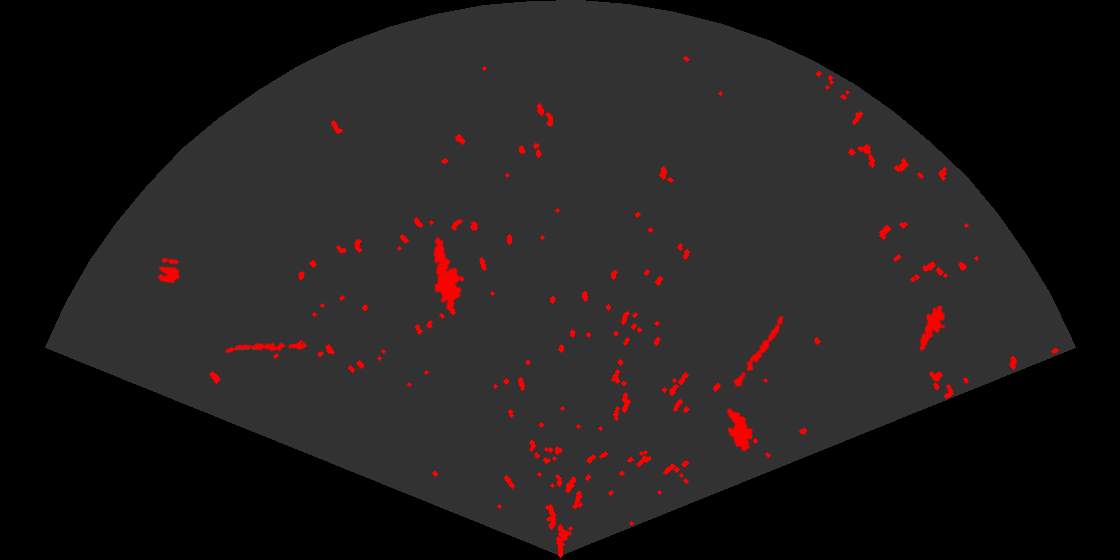AUV: (725, 406, 755, 454)
ball: (156, 256, 181, 285)
chain: (727, 314, 785, 397), (223, 340, 303, 354)
frogman: (432, 235, 467, 309), (918, 306, 947, 352)
